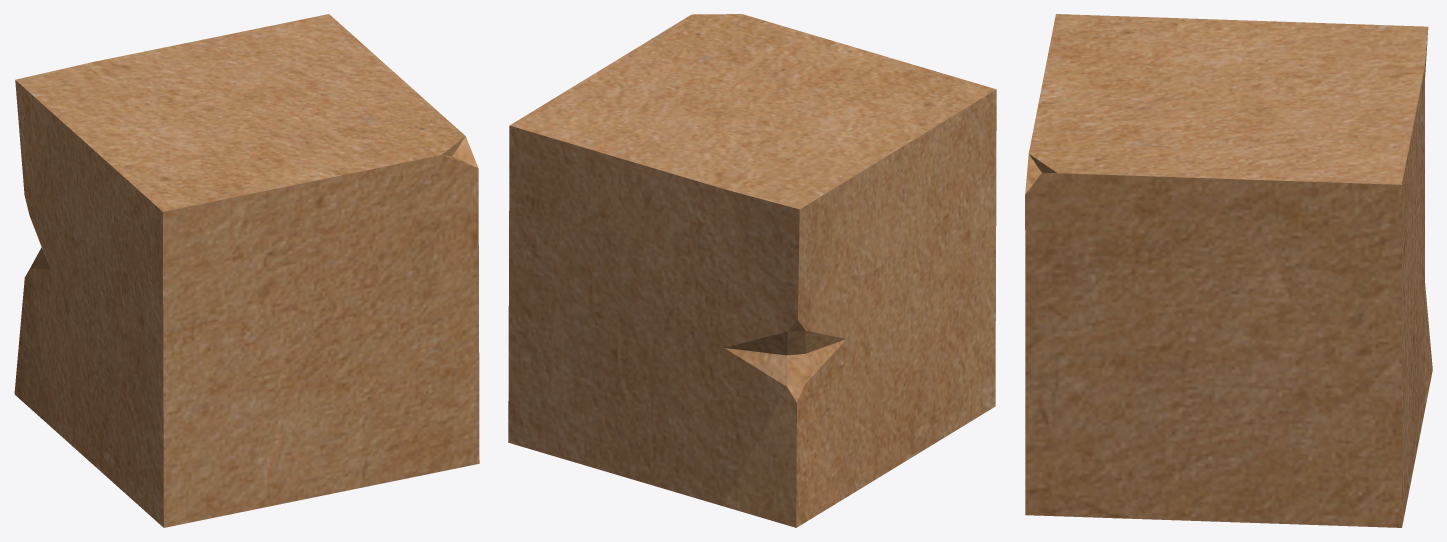
The picture shows the model from 3 angles, left to right: view 1: azimuth 30°, elevation 25°; view 2: azimuth 150°, elevation 25°; view 3: azimuth 270°, elevation 25°; orthographic projection. The views are drawn at different scales.
Visible parts, largest first — view 1: Cube.002; view 2: Cube.002; view 3: Cube.002.
Boxes of the visible parts, x1,y1,x2,y2 form: Cube.002: (14, 14, 479, 527); Cube.002: (508, 14, 996, 527); Cube.002: (1025, 14, 1432, 527).
Size of the model in its own units: 64.9 by 60.24 by 64.71.
1 material, 1 textured.
